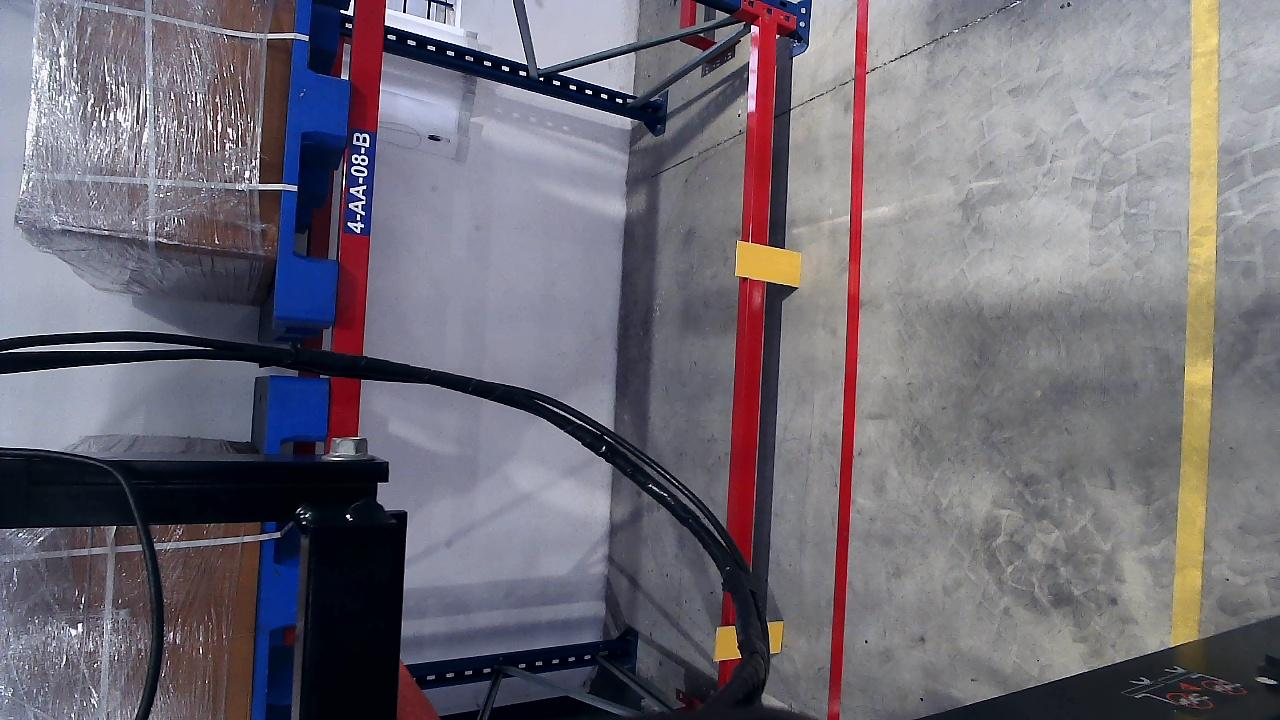h_rack: (724, 26, 775, 653), (331, 2, 389, 426)
orange_strip: (735, 241, 801, 287), (715, 627, 742, 659), (767, 621, 784, 652)
red_line: (832, 9, 869, 714)
small_pallet: (267, 1, 362, 322), (258, 378, 332, 718)
yellow_line: (1172, 4, 1221, 653)
